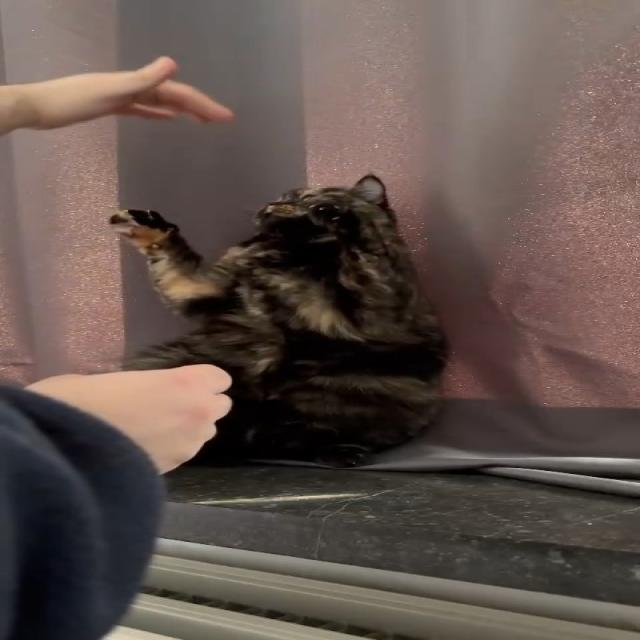authorized: (107, 173, 449, 469)
